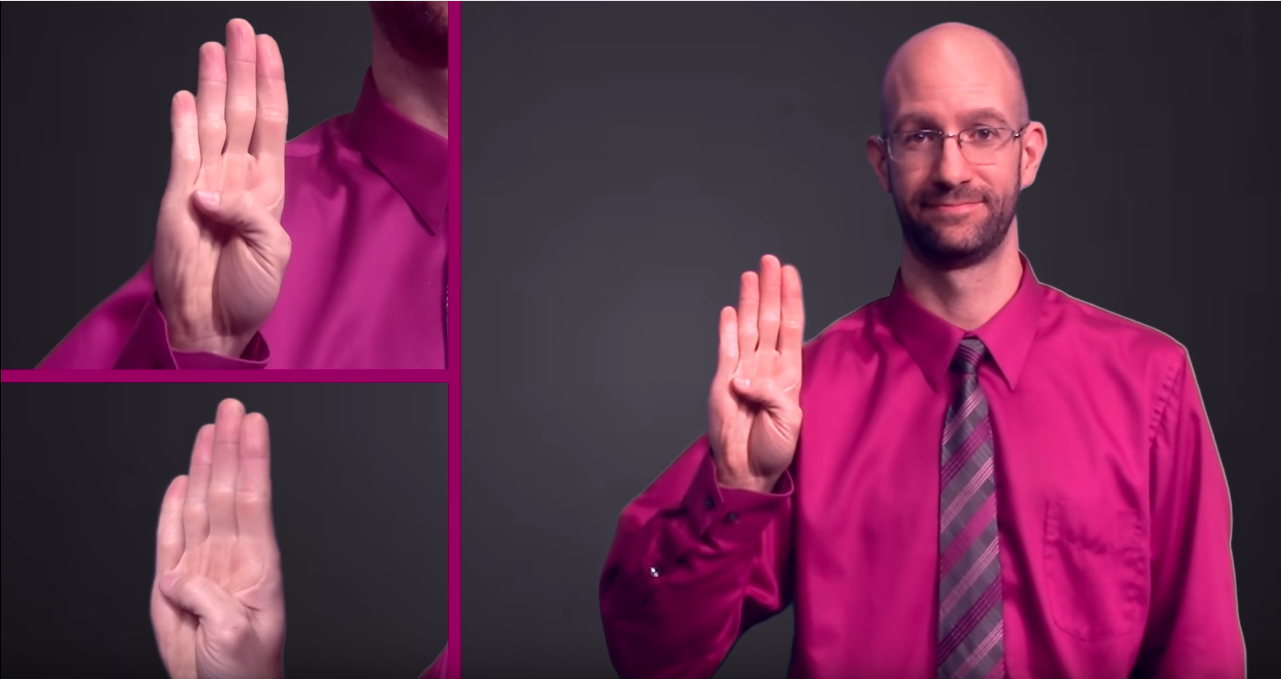b: (143, 12, 305, 361), (137, 391, 303, 679), (697, 248, 814, 497)
